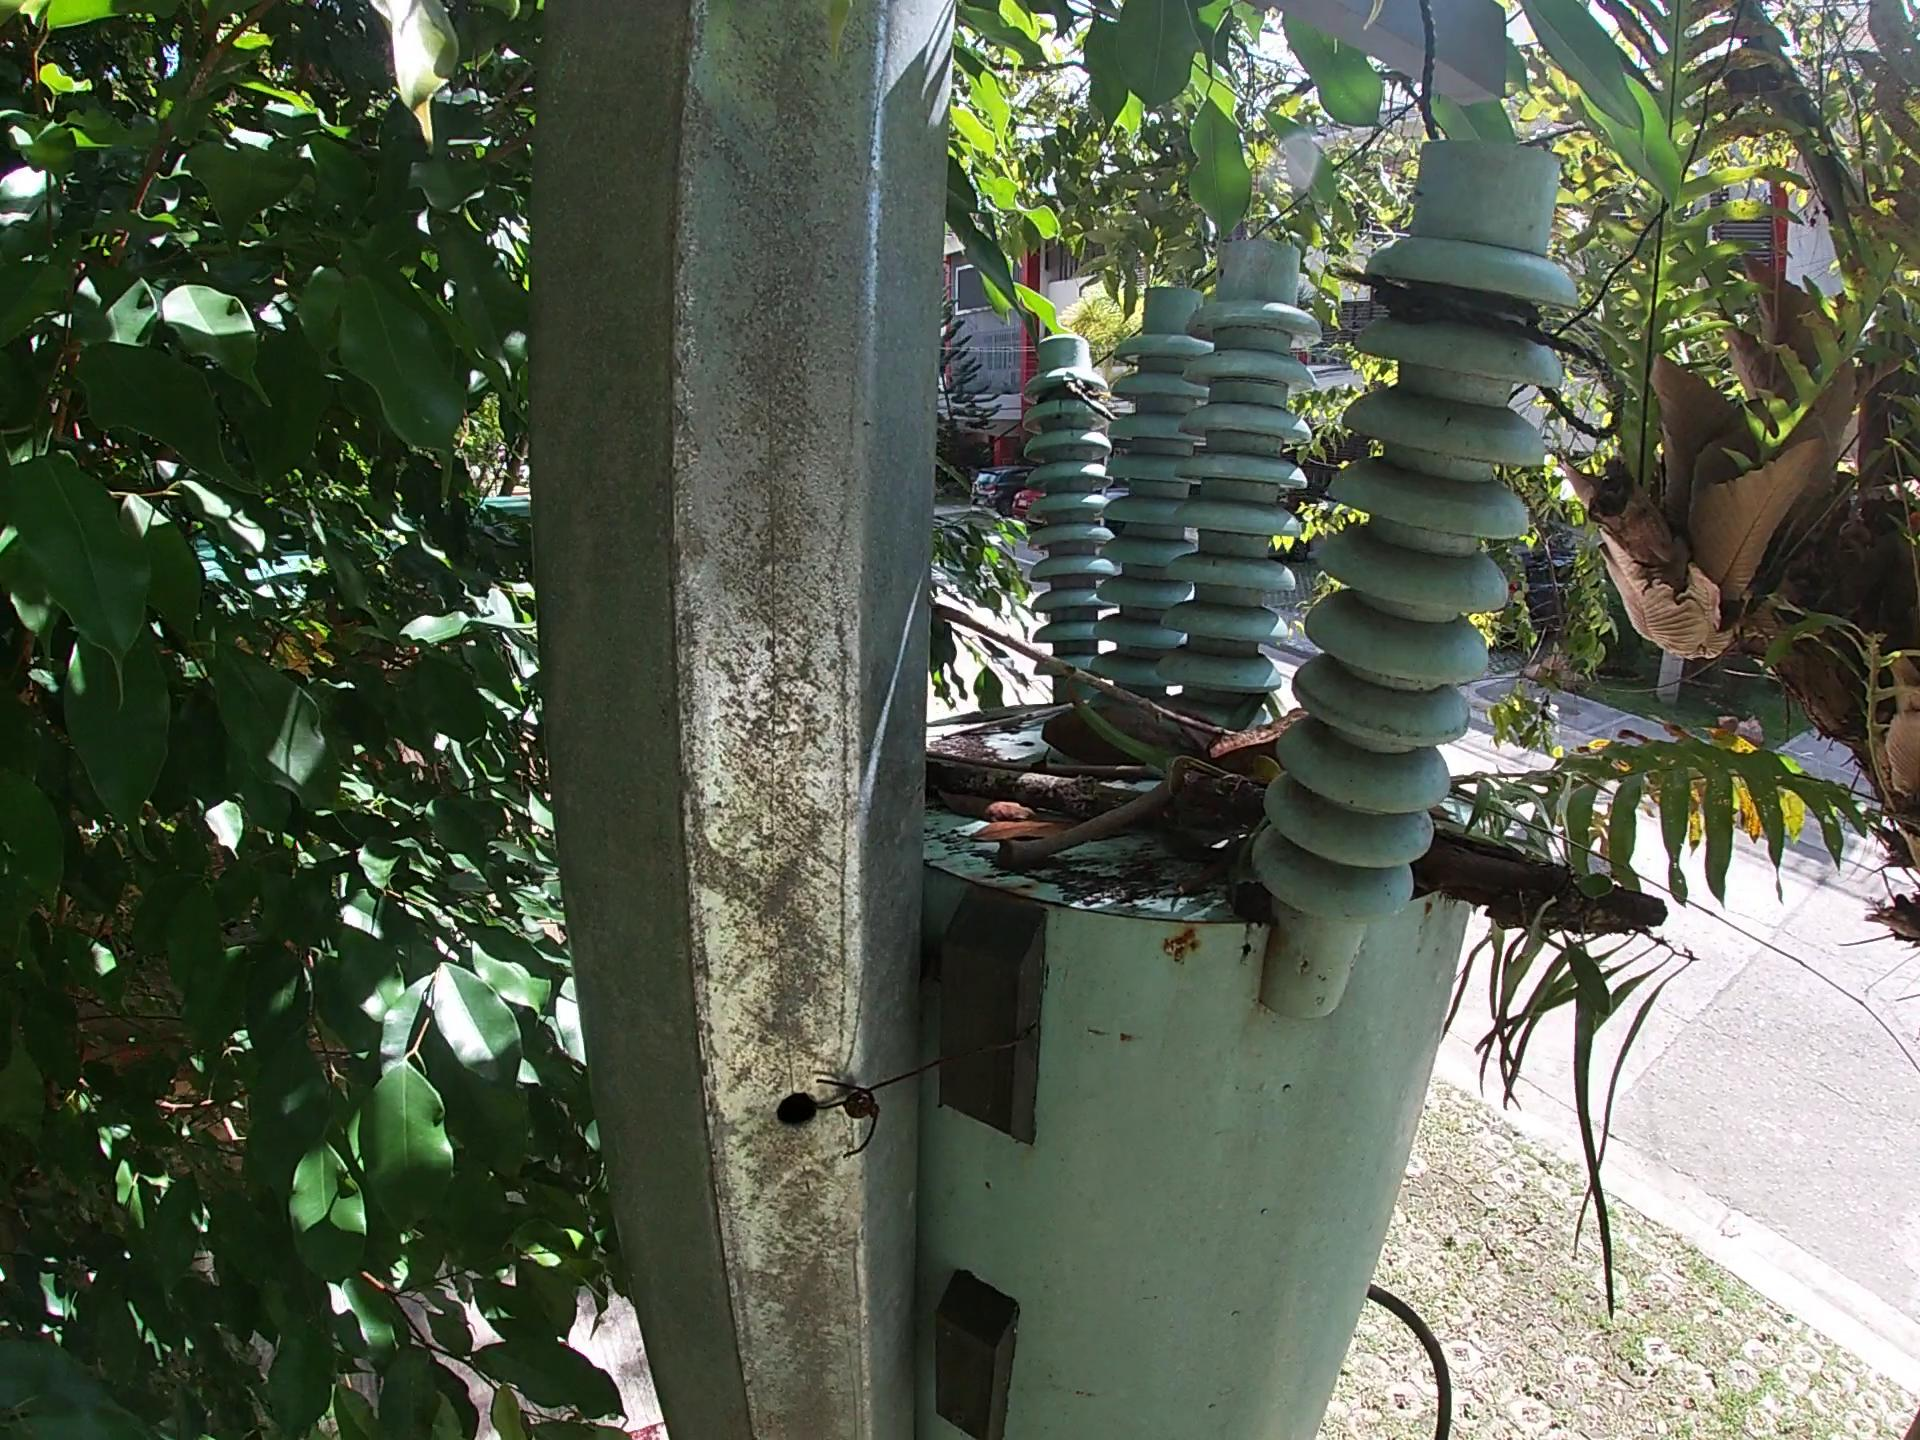branch with leaves: (945, 768, 1649, 964)
leaf: (977, 765, 1067, 862)
mahogany fruit: (948, 579, 1067, 669)
tree branch: (949, 594, 1920, 1100), (990, 796, 1143, 853), (949, 684, 1067, 734)
